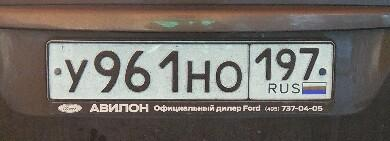license-plate: (48, 41, 334, 100)
